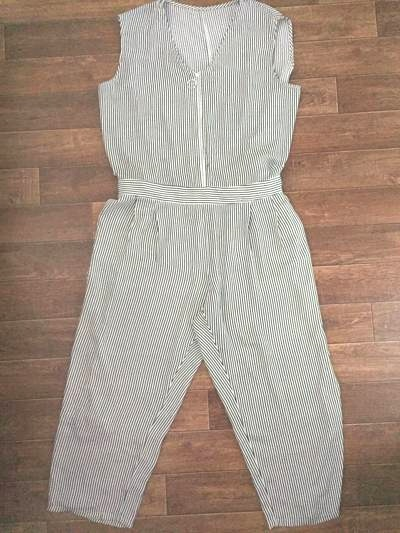Body: (32, 5, 364, 529)
